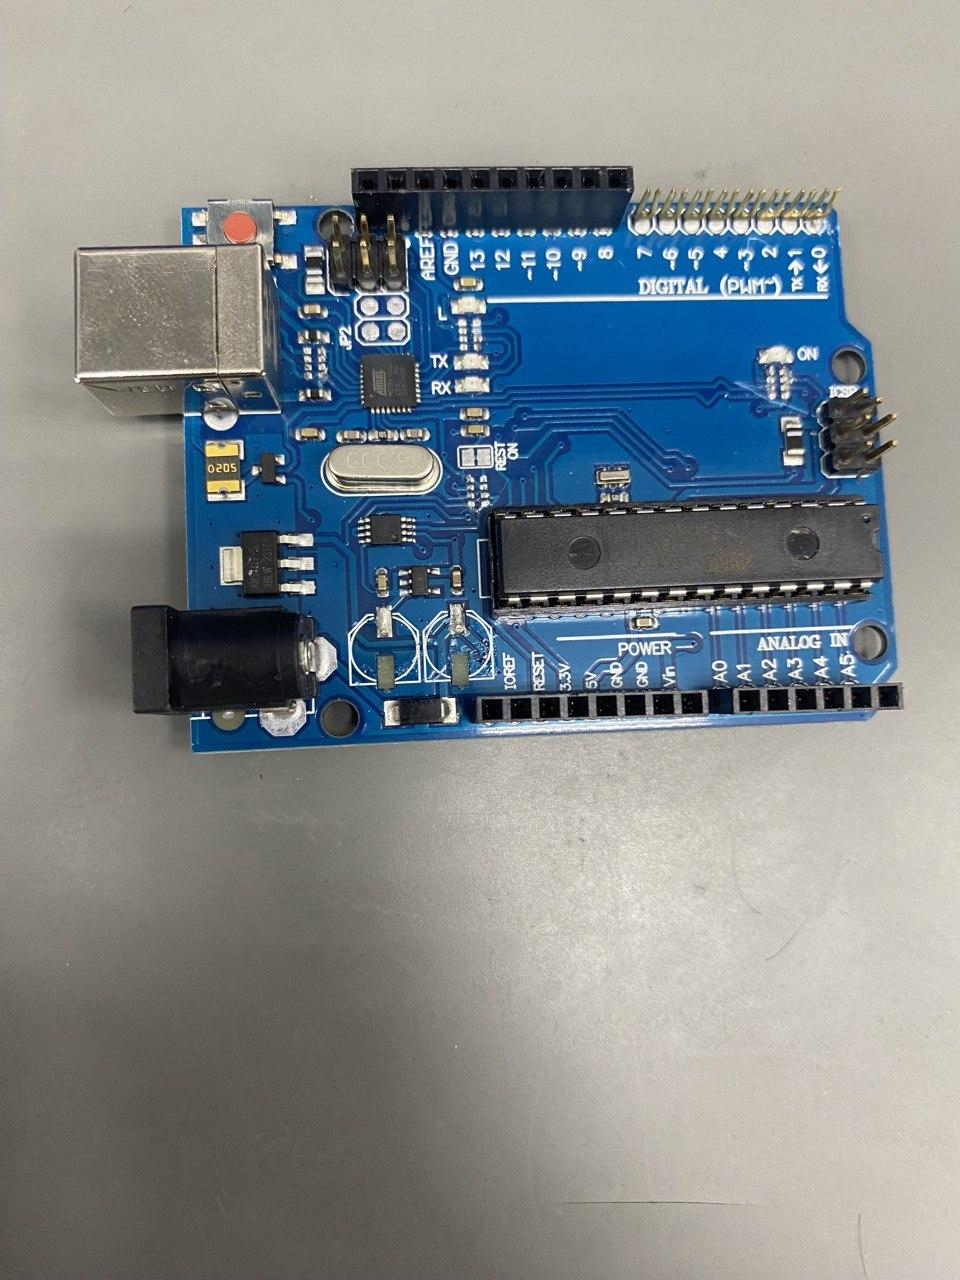ATmega328 chip: (486, 492, 885, 621)
Arduino board: (72, 165, 904, 753)
USB: (73, 244, 282, 419)
pins: (351, 165, 635, 233), (466, 689, 710, 724), (709, 681, 905, 716)
